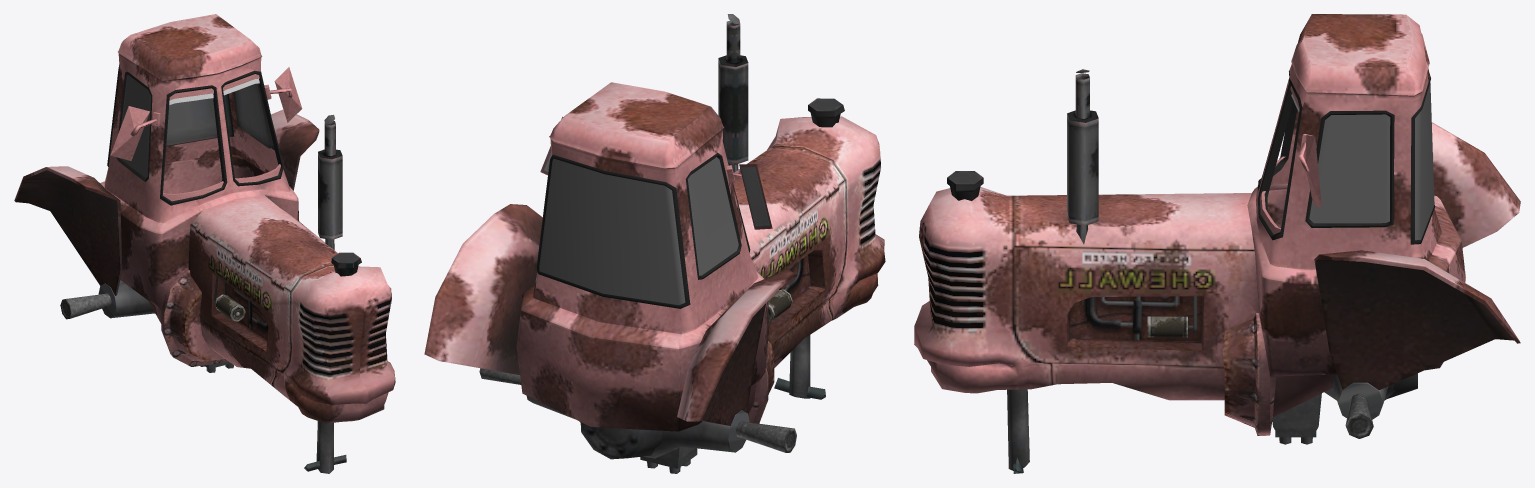
Rendered from corpo.glb.
3 renders of one model, left to right at view 1: azimuth 30°, elevation 25°; view 2: azimuth 150°, elevation 25°; view 3: azimuth 270°, elevation 25°, orthographic. The views are drawn at different scales.
Visible parts, largest first — view 1: trator_corpo; view 2: trator_corpo; view 3: trator_corpo.
Part boxes in pixels (left/top/right/bottom): trator_corpo: left=14, top=14, right=395, bottom=473; trator_corpo: left=424, top=14, right=885, bottom=473; trator_corpo: left=914, top=14, right=1520, bottom=473.
Bounding box in the file's own units: 1.83 × 2.35 × 3.01.
4 materials, 3 textured.
